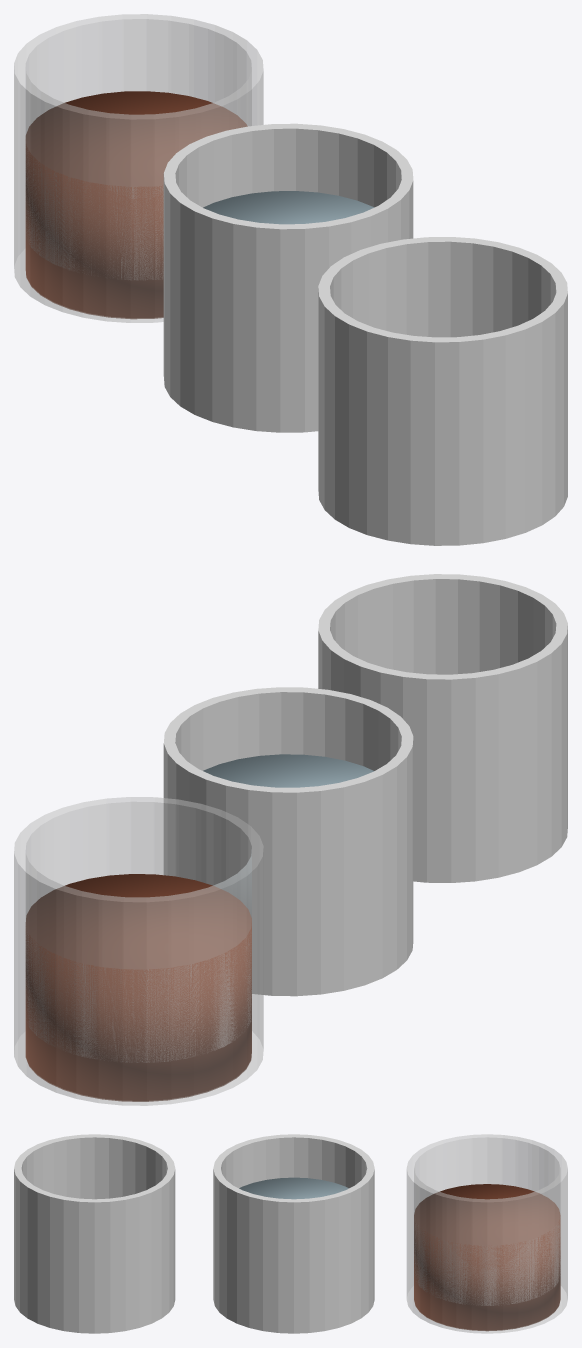
Rendered from whiskywaterglass.glb.
3 renders of one model, top to bottom at view 1: azimuth 30°, elevation 25°; view 2: azimuth 150°, elevation 25°; view 3: azimuth 270°, elevation 25°, orthographic. The views are drawn at different scales.
Visible parts, largest first — view 1: emptyGlass, WhiskyGlass, waterGlass, Cylinder.009, Cylinder.008; view 2: WhiskyGlass, waterGlass, emptyGlass, Cylinder.009, Cylinder.008; view 3: emptyGlass, WhiskyGlass, waterGlass, Cylinder.009, Cylinder.008.
Part boxes in pixels (left/top/right/bottom): emptyGlass: left=318, top=237, right=567, bottom=545; WhiskyGlass: left=14, top=14, right=263, bottom=322; waterGlass: left=163, top=123, right=413, bottom=432; Cylinder.009: left=25, top=91, right=247, bottom=319; Cylinder.008: left=203, top=191, right=374, bottom=224; WhiskyGlass: left=14, top=797, right=263, bottom=1105; waterGlass: left=163, top=687, right=413, bottom=996; emptyGlass: left=318, top=574, right=567, bottom=882; Cylinder.009: left=25, top=874, right=251, bottom=1101; Cylinder.008: left=203, top=754, right=374, bottom=916; emptyGlass: left=14, top=1134, right=175, bottom=1333; WhiskyGlass: left=406, top=1134, right=567, bottom=1333; waterGlass: left=213, top=1134, right=374, bottom=1333; Cylinder.009: left=414, top=1184, right=560, bottom=1331; Cylinder.008: left=239, top=1177, right=348, bottom=1199.
Bounding box in the file's own units: 0.0517 × 0.0466 × 0.1774.
Materials: 3 (1 with a texture image).
